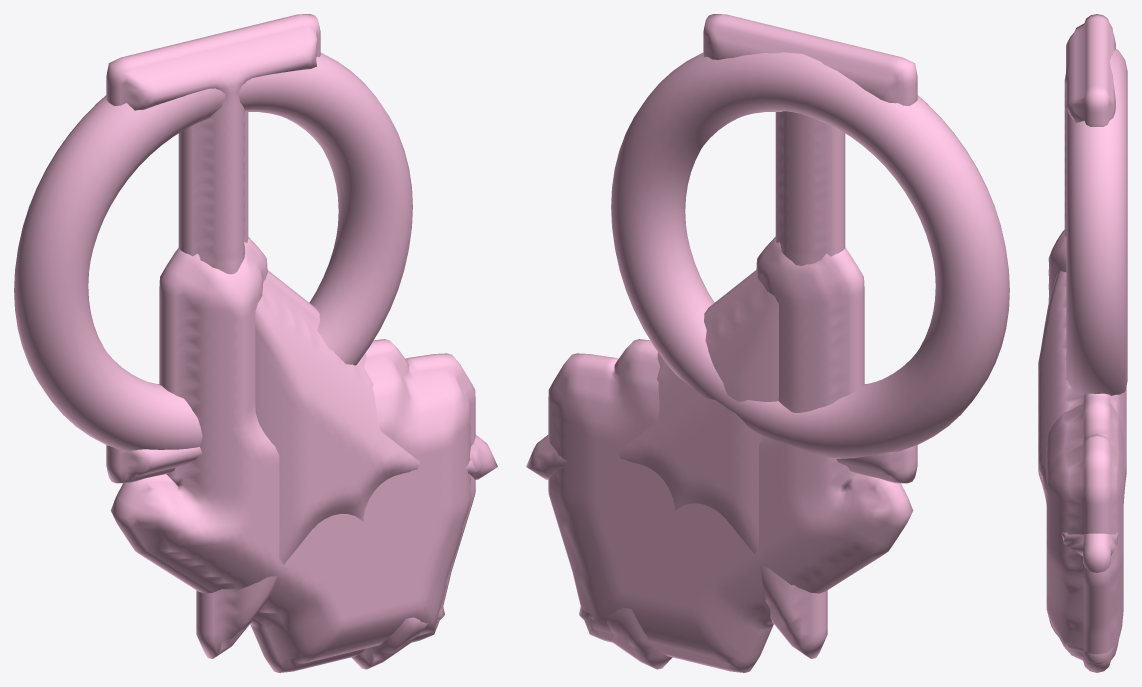
File: bloom.glb
The picture shows the model from 3 angles, left to right: view 1: azimuth 30°, elevation 25°; view 2: azimuth 150°, elevation 25°; view 3: azimuth 270°, elevation 25°; orthographic projection. The views are drawn at different scales.
Parts seen in each view (by area): view 1: cursor_hand, cursor_ring, cursor_arrow, cursor_beam; view 2: cursor_hand, cursor_ring, cursor_arrow, cursor_beam; view 3: cursor_hand, cursor_ring, cursor_arrow, cursor_beam.
Part boxes in pixels (box(x1,y1,x2,y2)): cursor_hand: box(110, 237, 475, 672); cursor_ring: box(14, 52, 412, 451); cursor_arrow: box(196, 270, 497, 669); cursor_beam: box(106, 14, 320, 483); cursor_hand: box(548, 237, 913, 672); cursor_ring: box(611, 52, 1009, 458); cursor_arrow: box(526, 270, 827, 669); cursor_beam: box(703, 14, 917, 483); cursor_hand: box(1046, 230, 1123, 672); cursor_ring: box(1066, 49, 1127, 395); cursor_arrow: box(1038, 270, 1126, 664); cursor_beam: box(1064, 14, 1115, 236).
Bounding box in the file's own units: 32.31 × 43.24 × 6.4.
